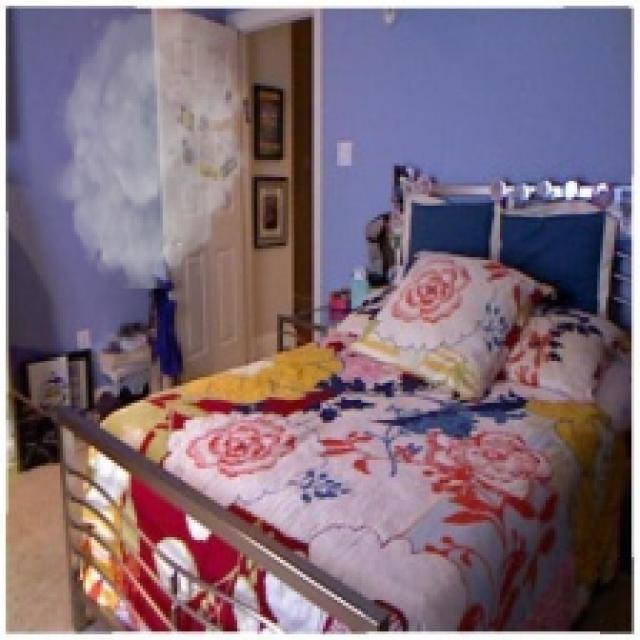Smoke: (48, 14, 255, 289)
